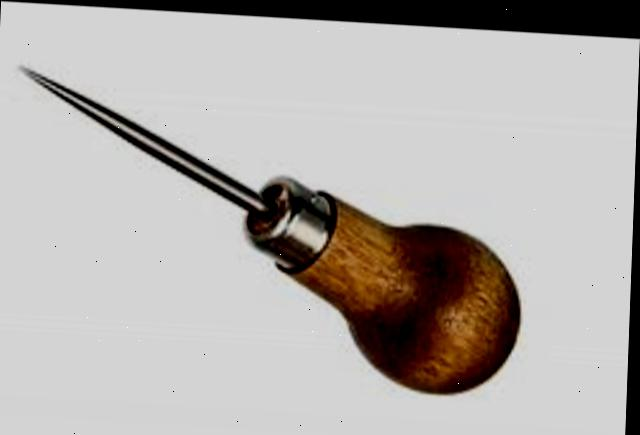ice pick: (10, 61, 531, 405)
